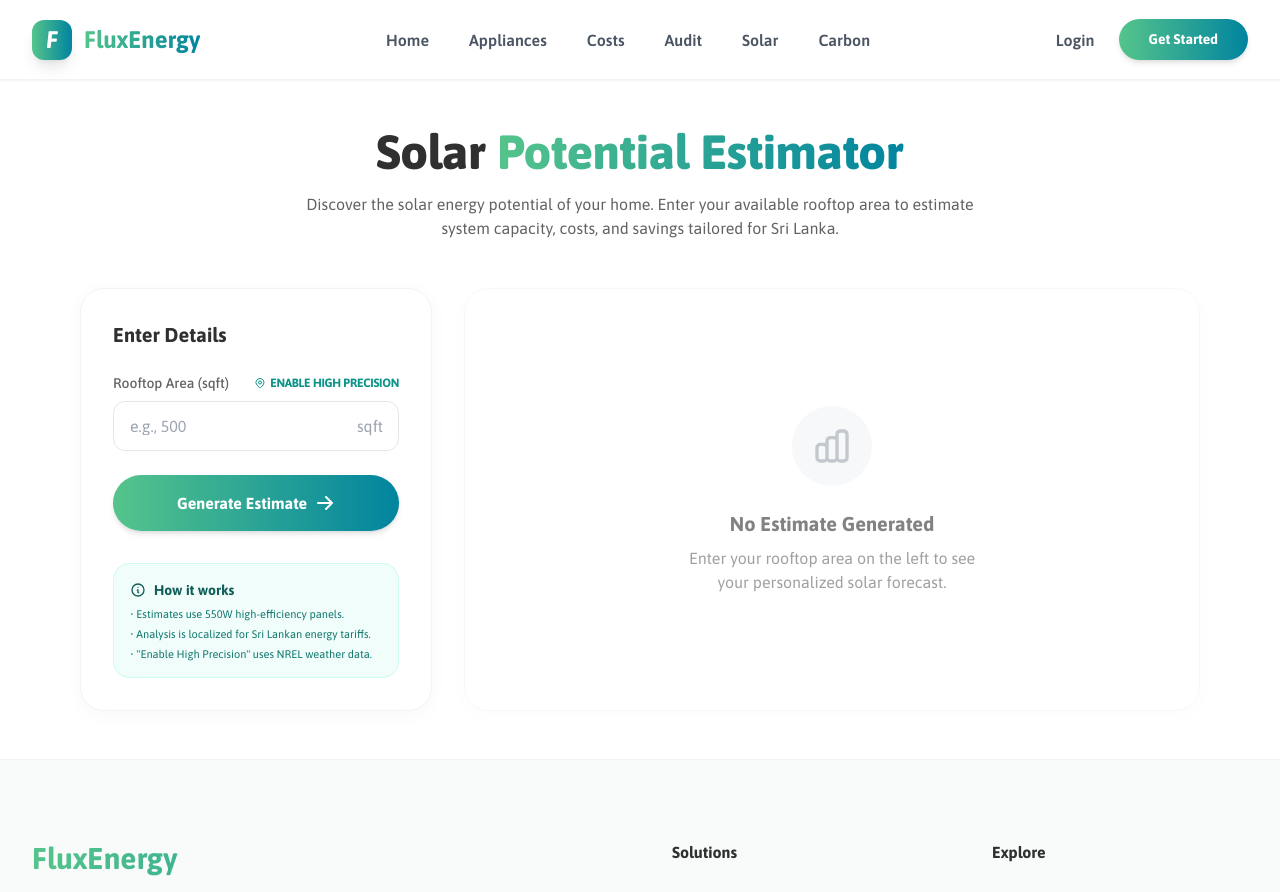
SolarEstimator › shows error when area is empty or invalid
Click the button "Generate Estimate".
click(256, 503)  # box [113,475,399,531]
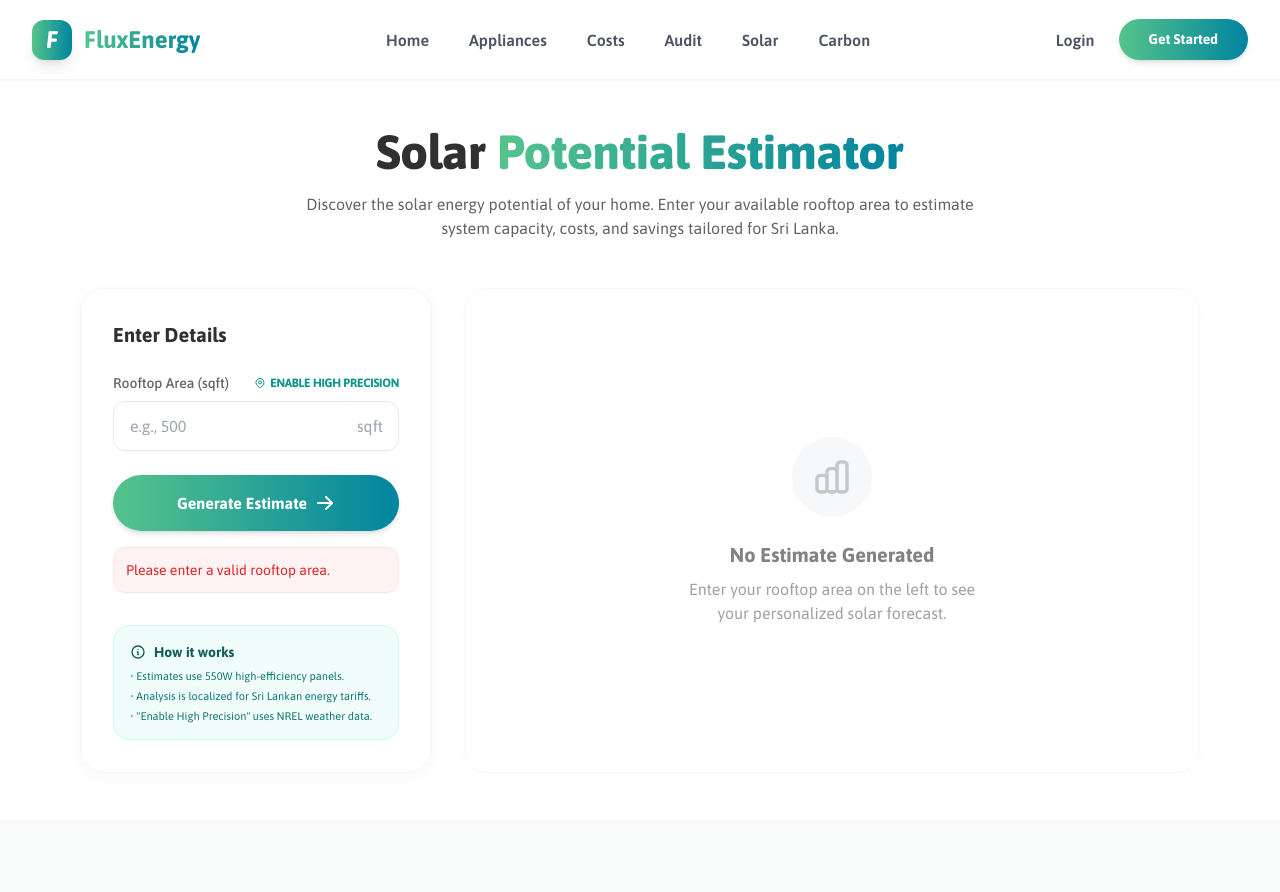
Now the text "Please enter a valid rooftop area." is shown, box [113,547,399,593]
